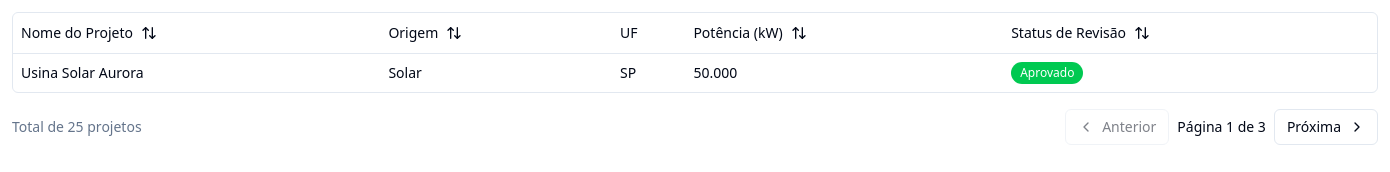
ProjetosTable Component › deve interagir com a paginação e mudar a página atual
expect the text "Página 1 de 3" is shown: met, box x1=1177 y1=117 x2=1266 y2=137
Note: Acha o botão "Próxima" e clica nele
Click the button "Próxima".
click(1326, 127)  # box x1=1274 y1=109 x2=1378 y2=145
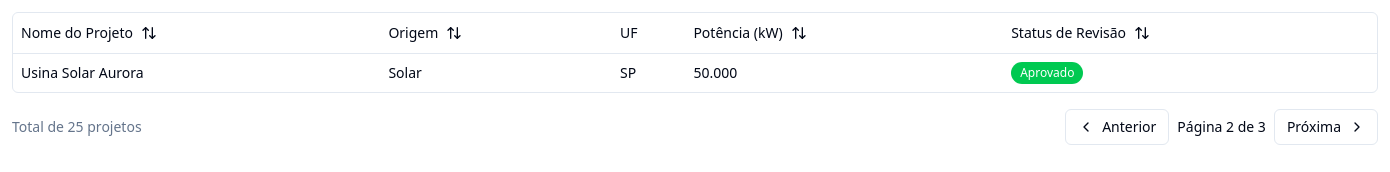
expect the text "Página 2 de 3" is shown: met, box x1=1177 y1=117 x2=1266 y2=137
